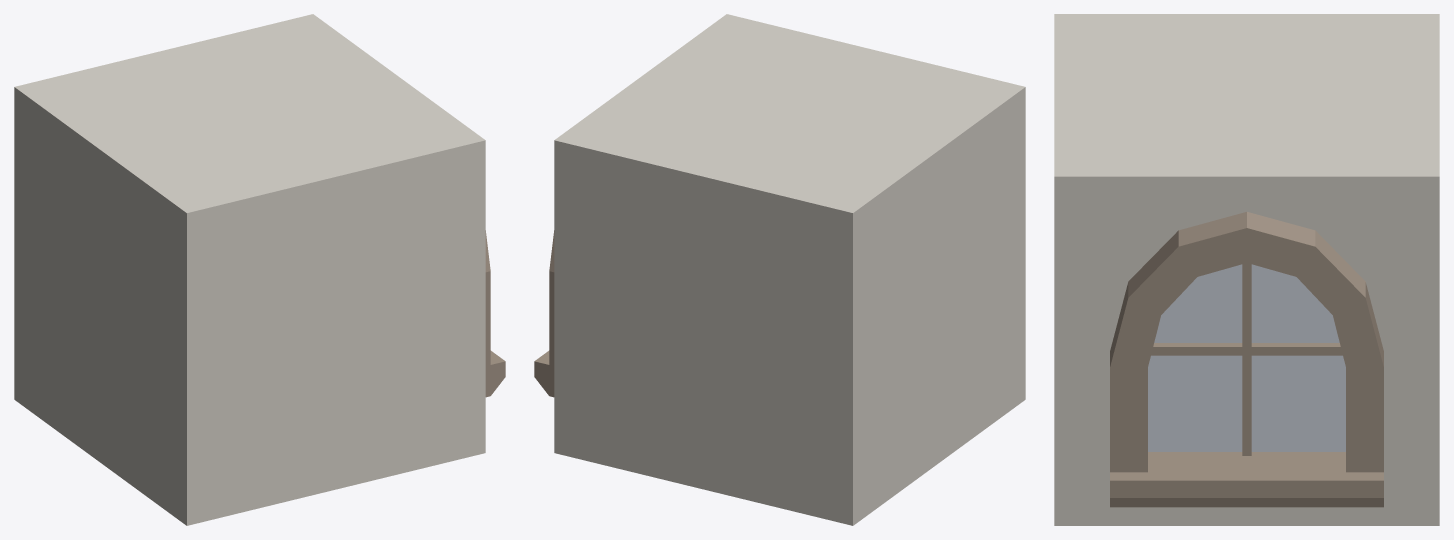
File: Stucco_Window_Rounded_Narrow.glb
3 renders of one model, left to right at view 1: azimuth 30°, elevation 25°; view 2: azimuth 150°, elevation 25°; view 3: azimuth 270°, elevation 25°, orthographic. The views are drawn at different scales.
Parts seen in each view (by area): view 1: object2, object3; view 2: object2, object3; view 3: object2, object3, object1.
Boxes of the visible parts, box(x1,y1,x2,y2) form: object2: box(14, 14, 485, 525); object3: box(485, 230, 505, 397); object2: box(554, 14, 1025, 525); object3: box(534, 230, 554, 397); object2: box(1054, 14, 1439, 525); object3: box(1110, 212, 1383, 507); object1: box(1151, 263, 1342, 455).
Bounding box in the file's own units: 1.15 × 1 × 1.
